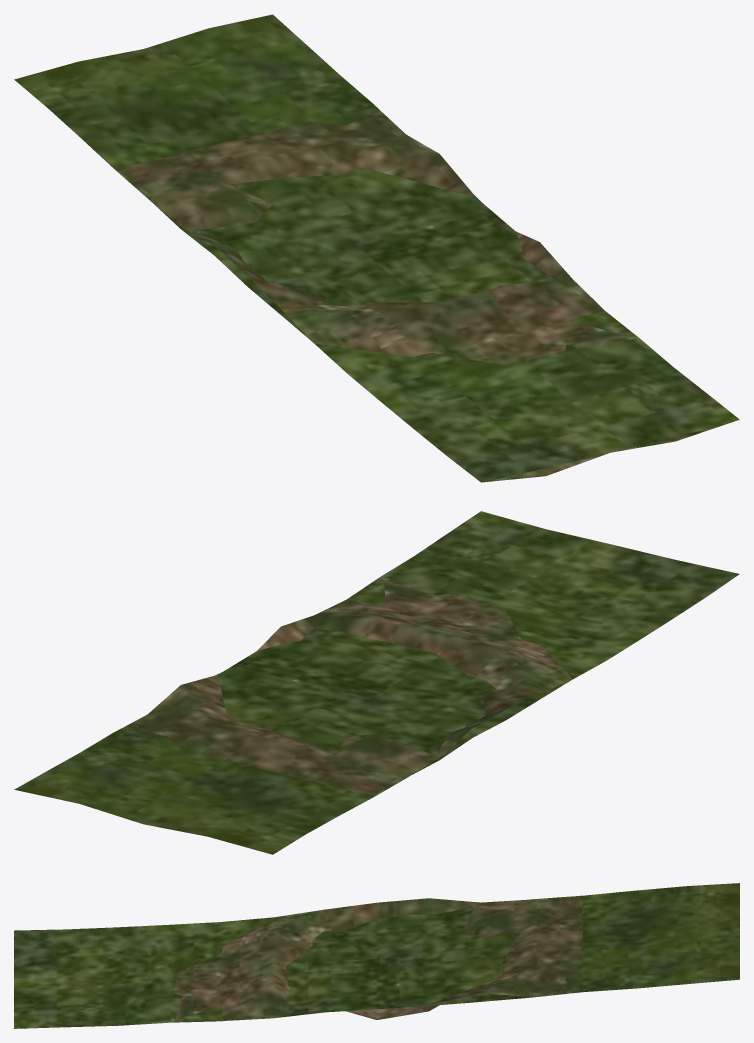
File: starfort_glacis_far.glb
3 views of the same model, one above another, from view 1: azimuth 30°, elevation 25°; view 2: azimuth 150°, elevation 25°; view 3: azimuth 270°, elevation 25° (orthographic). The views are drawn at different scales.
Parts seen in each view (by area): view 1: intact, breached, cracked; view 2: intact, breached; view 3: intact, breached.
Boxes of the visible parts, x1=… form: intact: x1=14, y1=14, x2=739, y2=482; breached: x1=15, y1=15, x2=736, y2=467; cracked: x1=79, y1=53, x2=737, y2=482; intact: x1=14, y1=511, x2=739, y2=854; breached: x1=121, y1=512, x2=736, y2=854; intact: x1=14, y1=883, x2=739, y2=1028; breached: x1=15, y1=896, x2=617, y2=1028.
Size of what is drawn, in the model's own units: 4 by 1.4 by 12.5.
Materials: 1 (1 with a texture image).
